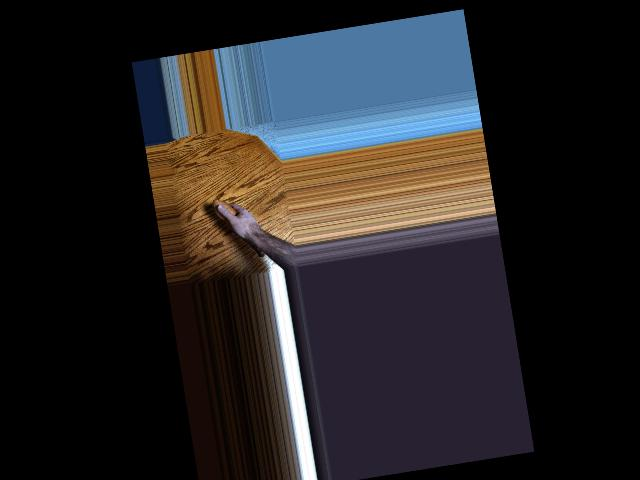sweet_potato: (210, 192, 264, 264)
